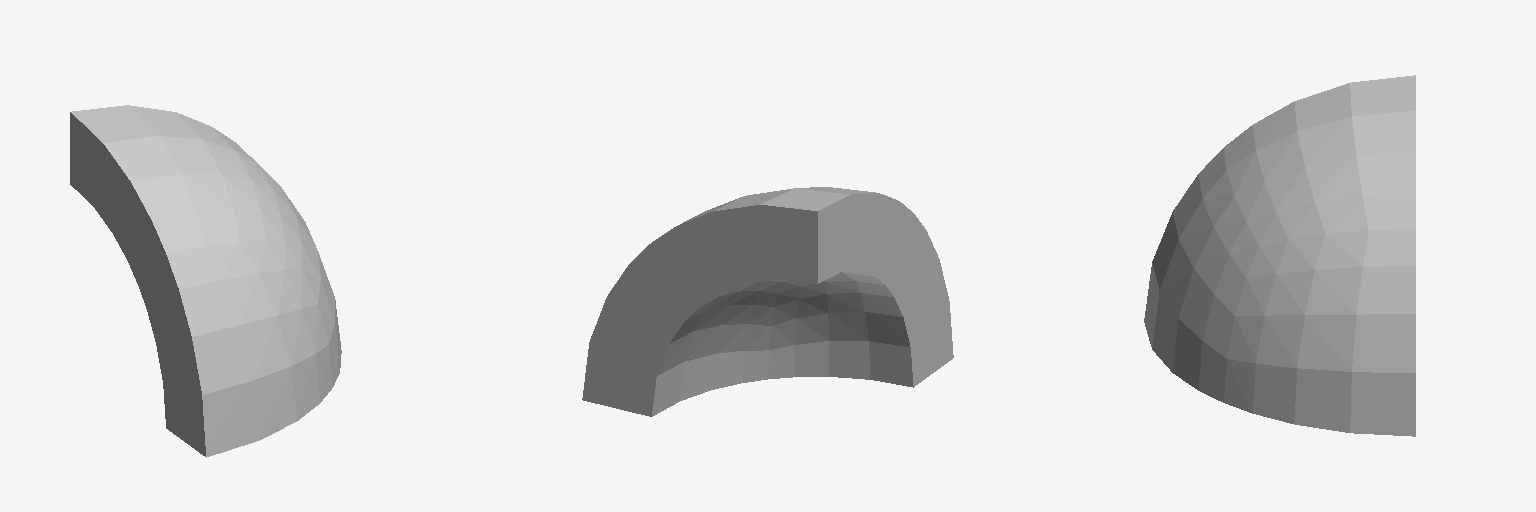
Rendered from obj_planet_piece_3.obj.
3 views of the same model, side by side, from view 1: azimuth 30°, elevation 25°; view 2: azimuth 150°, elevation 25°; view 3: azimuth 270°, elevation 25° (orthographic).
Parts seen in each view (by area): view 1: Cube.014_Cube.029; view 2: Cube.014_Cube.029; view 3: Cube.014_Cube.029.
Boxes of the visible parts, <box> form: Cube.014_Cube.029: <box>70,105,341,457</box>; Cube.014_Cube.029: <box>582,187,953,416</box>; Cube.014_Cube.029: <box>1144,75,1415,436</box>.
Size of the model in its own units: 1.24 by 1.24 by 1.24.